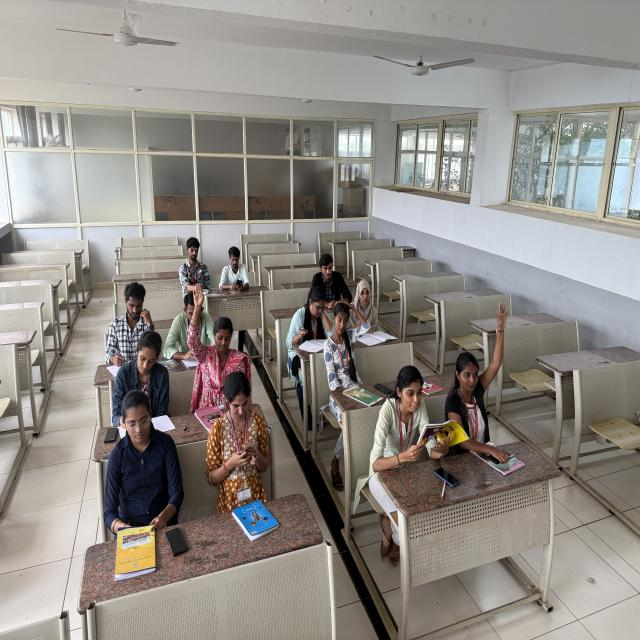Hand Rising: (441, 276, 528, 433), (182, 280, 252, 389)
Reading: (385, 360, 469, 459)
Using Phone: (195, 367, 304, 490), (212, 230, 255, 298)
Writing: (99, 266, 150, 388), (289, 283, 332, 361), (179, 233, 212, 296)
